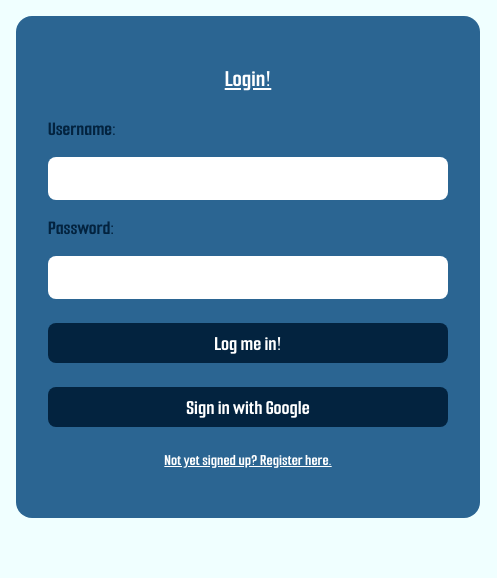
Test case: handleSubmit › renders success message if response.ok and form fields back to blank
In the field labelled "Username:": coordinates (248, 178) [48, 157, 448, 200], type "usernameMe"
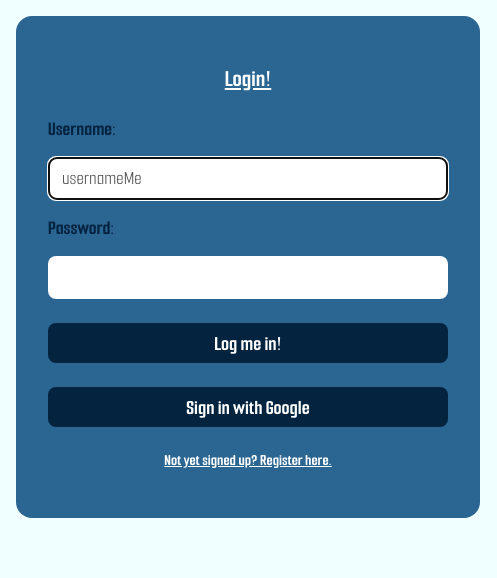
In the password field labelled "Password:": coordinates (248, 278) [48, 256, 448, 299], type "Password123!"
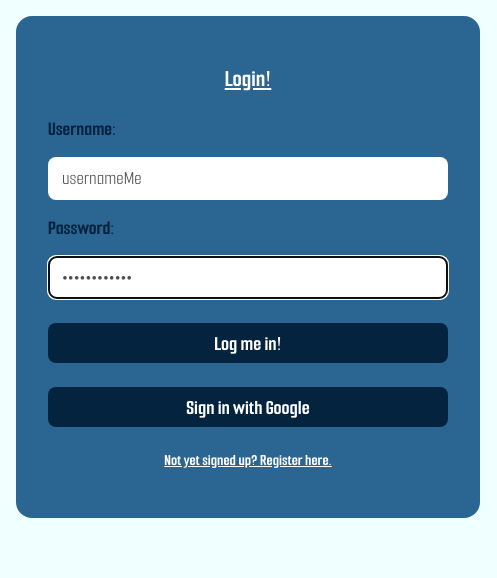
Click the button "Log me in!": coordinates (248, 343) [48, 323, 448, 363]
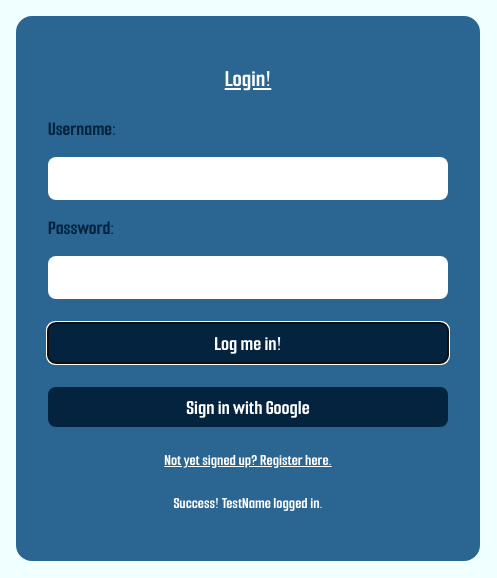
Now the text "Success! TestName logged in." is shown, box [173, 494, 323, 513]
Now the field labelled "Username:" is empty, box [48, 157, 448, 200]
Now the password field labelled "Password:" is empty, box [48, 256, 448, 299]
